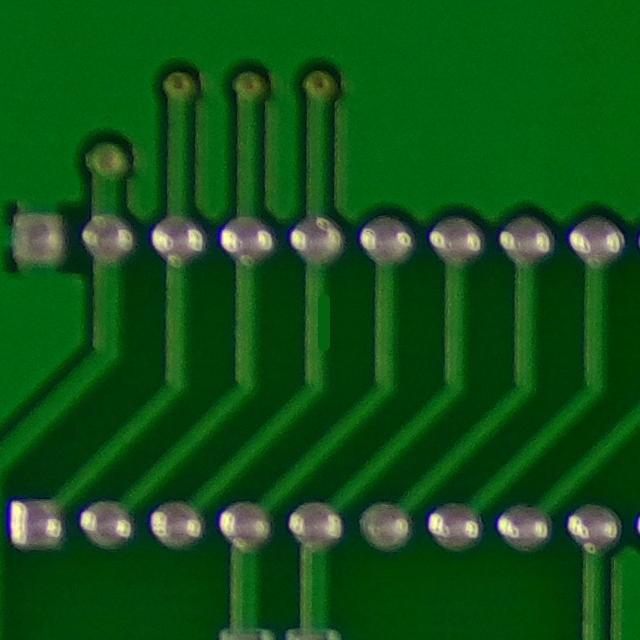spur: (298, 286, 343, 355)
